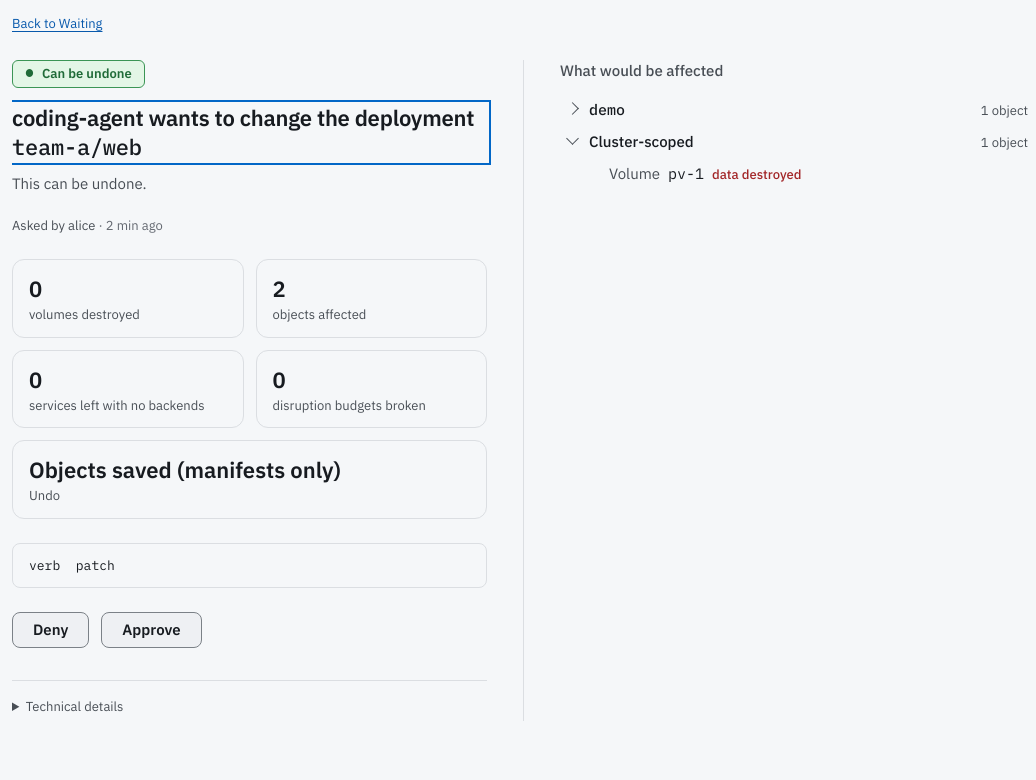
Scenario: Details › approving from the details page posts and shows the new state
Click the button "Approve" at (151, 630), box [101,612,202,648]
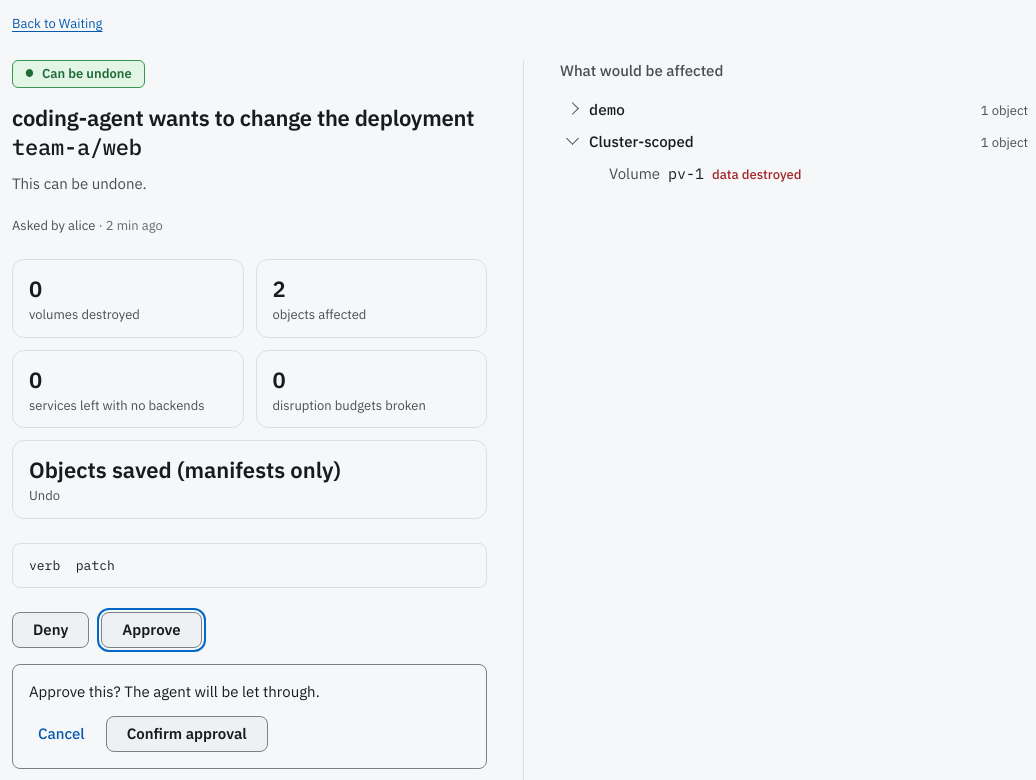
Expected: the button "Confirm approval" is enabled
Click the button "Confirm approval" at (187, 734), box [106,716,268,752]
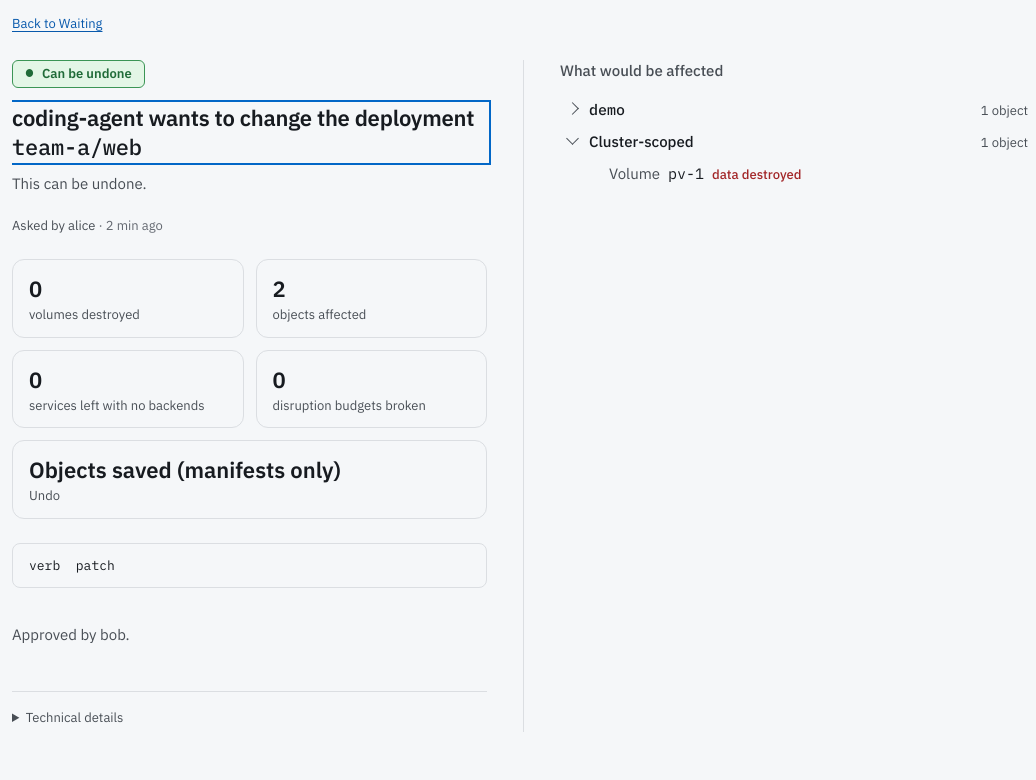
Expected: the text "Approved by bob." is shown, [12,625,130,644]
